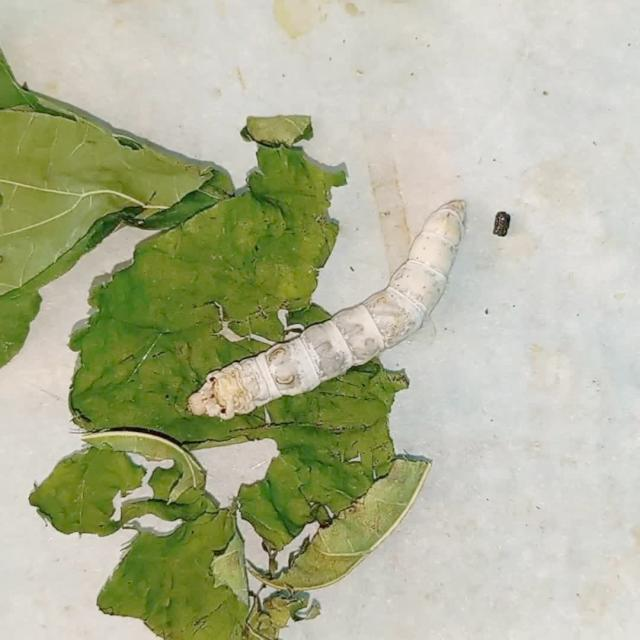Grasserie: (162, 182, 492, 472)
